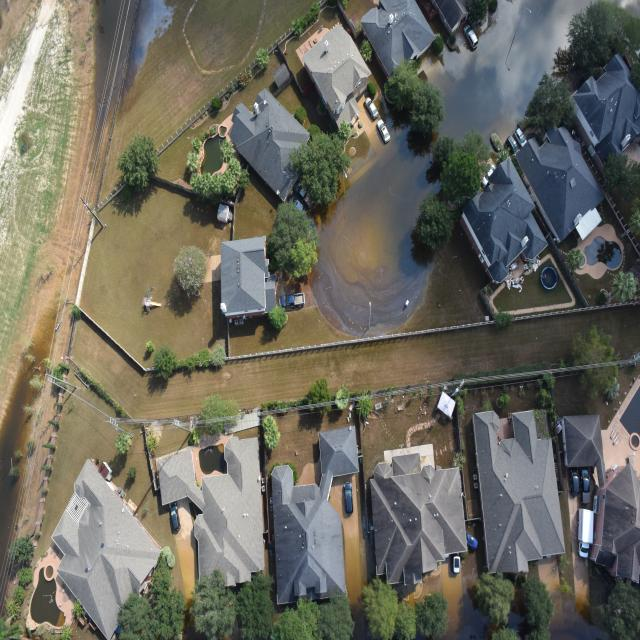fire: (312, 111, 441, 335), (424, 0, 584, 140), (0, 360, 33, 569), (421, 555, 487, 640), (124, 0, 173, 92), (342, 511, 372, 639), (170, 536, 207, 638), (550, 591, 611, 640), (93, 0, 120, 104), (30, 309, 54, 363)
